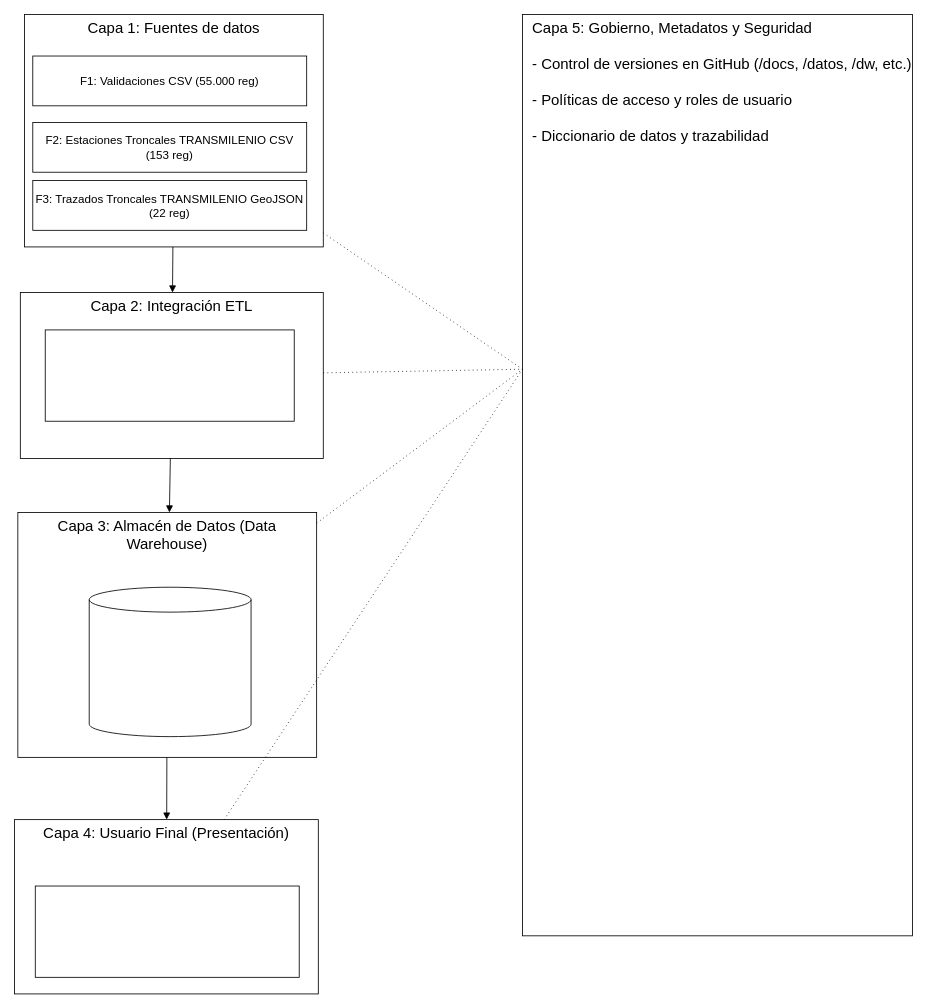
This 927x1008 diagram has some shape labels left out. Here are the shapes that lost their labels. From the top down, the centre of each, then its label:
At [169,375]: "Pentaho Data Integration (Archivos .ktr y .kjb)".
At [169,661]: "PostgreSQL 16 · movibogota_dw (estrella: 6 dimensiones + fact_validaciones)".
At [166,931]: "Microsoft Power BI (Tableros Interactivos)".
